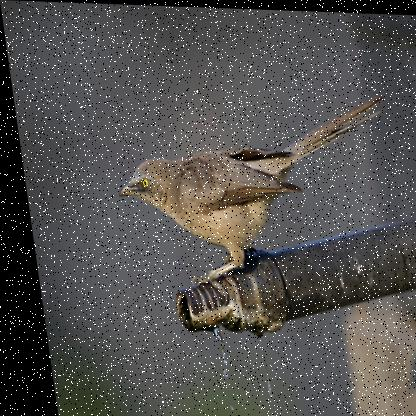Burung: (100, 82, 405, 309)
